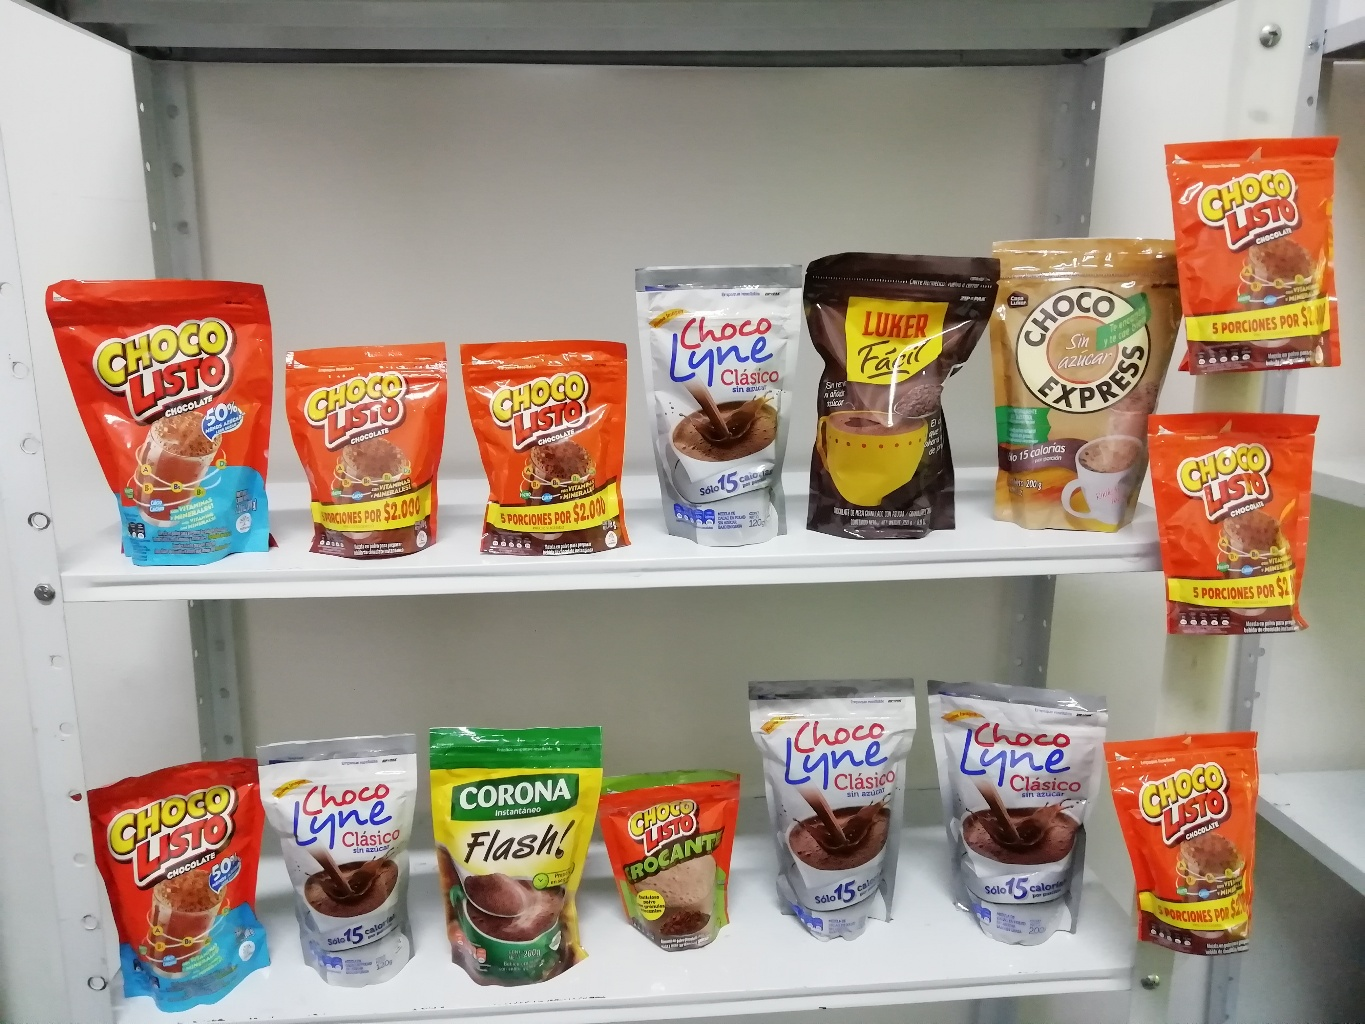COL0170102DYP10000: (593, 758, 747, 956)
COL0170104DYP20000: (33, 273, 293, 569)
